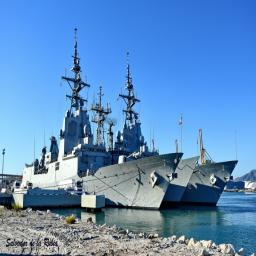Fragata: (4, 24, 185, 215)
